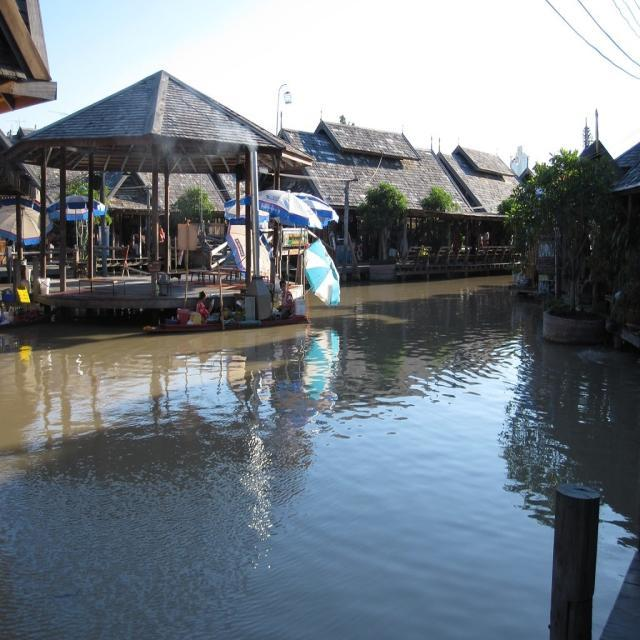boat: (160, 299, 310, 331)
